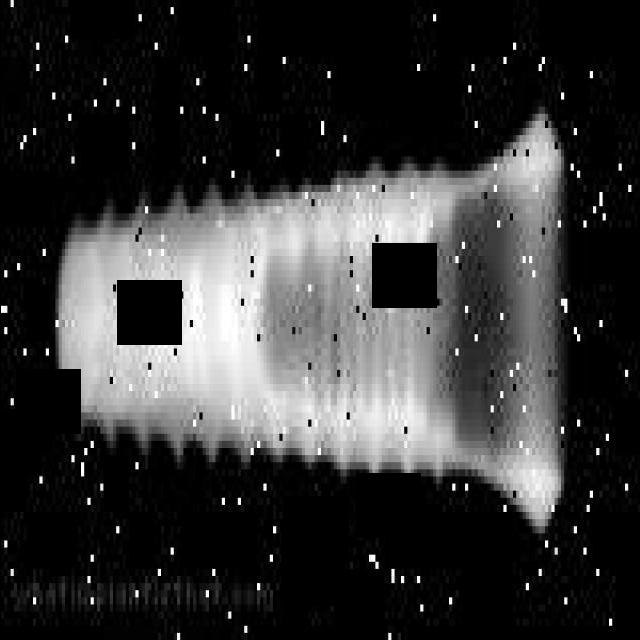Titan Implant Implant: (51, 100, 570, 540)
